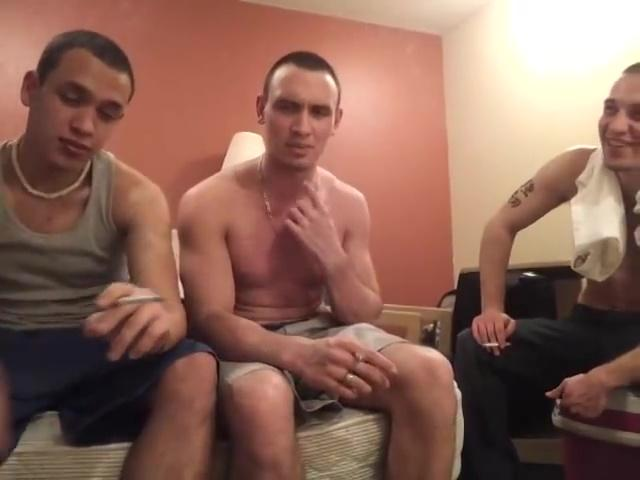cigarette: (112, 290, 168, 310), (352, 349, 369, 364), (480, 342, 512, 349)
